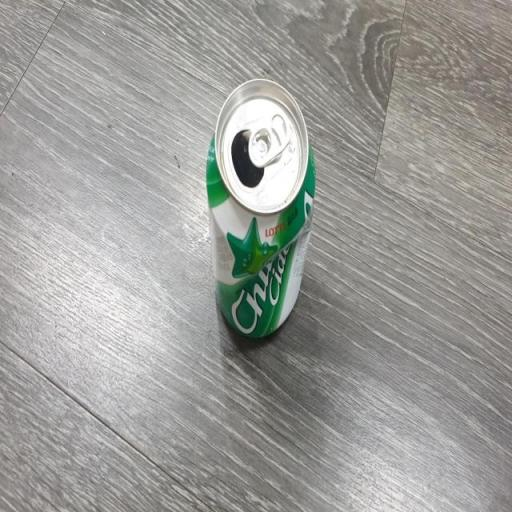metal: (200, 68, 326, 362)
